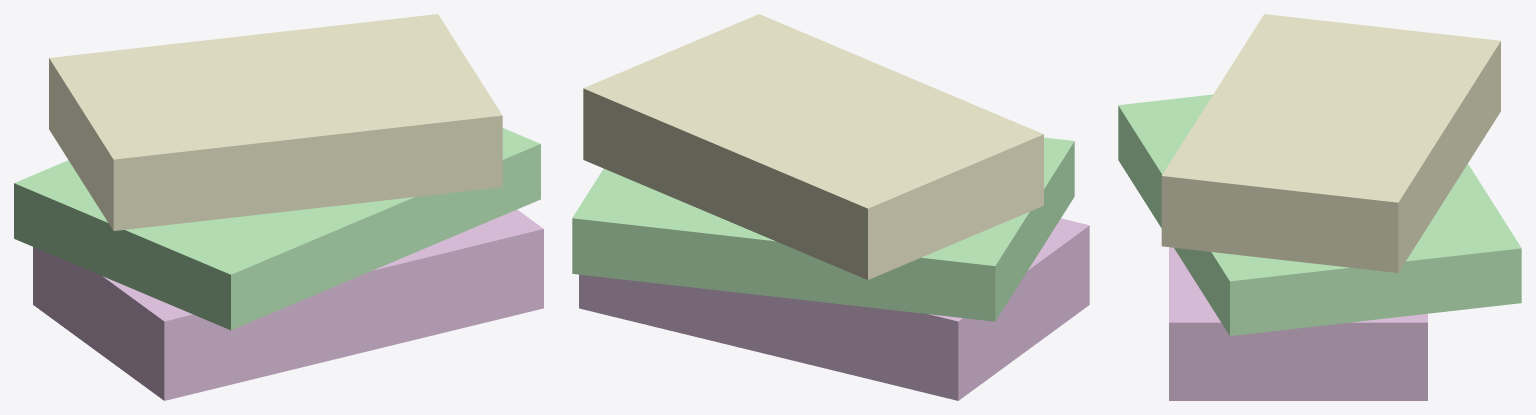
Rendered from Book_Stack.glb.
3 renders of one model, left to right at view 1: azimuth 30°, elevation 25°; view 2: azimuth 150°, elevation 25°; view 3: azimuth 270°, elevation 25°, orthographic.
Parts seen in each view (by area): view 1: Book Stack; view 2: Book Stack; view 3: Book Stack.
Part boxes in pixels (left/top/right/bottom): Book Stack: left=14, top=14, right=543, bottom=400; Book Stack: left=572, top=14, right=1089, bottom=400; Book Stack: left=1118, top=14, right=1521, bottom=400.
Size of the model in its own units: 0.2868 by 0.13 by 0.2337.
